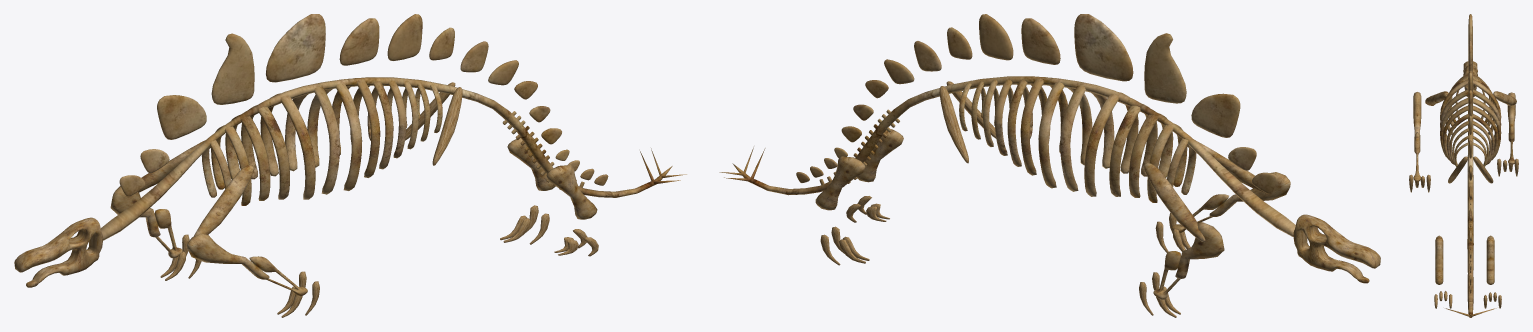
File: STEGOSAURUSbones.fbx
The picture shows the model from 3 angles, left to right: view 1: azimuth 30°, elevation 25°; view 2: azimuth 150°, elevation 25°; view 3: azimuth 270°, elevation 25°; orthographic projection. The views are drawn at different scales.
Parts seen in each view (by area): view 1: Spine, Ribs, Head, Left Forearm, Right Forearm, Left Arm, Left Foot, Left Leg, Right Foot, Right Toes, Right Arm, Right Fingers.001 (+2 smaller); view 2: Spine, Ribs, Head, Right Forearm, Right Arm, Left Forearm, Right Foot, Left Foot, Right Leg, Right Toes, Left Arm, Right Fingers.002 (+2 smaller); view 3: Ribs, Spine, Left Forearm, Right Foot, Left Foot, Right Forearm, Right Fingers.002, Right Arm, Right Fingers.001, Left Arm, Right Leg, Left Leg (+3 smaller).
Part boxes in pixels (x1=…): Spine: x1=100, y1=14, x2=686, y2=240; Ribs: x1=201, y1=78, x2=442, y2=205; Head: x1=14, y1=217, x2=102, y2=287; Left Forearm: x1=187, y1=234, x2=307, y2=295; Right Forearm: x1=110, y1=186, x2=182, y2=258; Left Arm: x1=193, y1=165, x2=254, y2=236; Left Foot: x1=546, y1=164, x2=597, y2=219; Left Leg: x1=432, y1=87, x2=462, y2=165; Right Foot: x1=507, y1=137, x2=554, y2=190; Right Toes: x1=500, y1=205, x2=549, y2=244; Right Arm: x1=138, y1=140, x2=210, y2=192; Right Fingers.001: x1=277, y1=271, x2=319, y2=317; Spine: x1=719, y1=14, x2=1295, y2=236; Ribs: x1=959, y1=77, x2=1196, y2=202; Head: x1=1293, y1=214, x2=1380, y2=283; Right Forearm: x1=1153, y1=222, x2=1224, y2=299; Right Arm: x1=1144, y1=163, x2=1205, y2=242; Left Forearm: x1=1171, y1=172, x2=1290, y2=232; Right Foot: x1=815, y1=156, x2=865, y2=210; Left Foot: x1=857, y1=129, x2=903, y2=182; Right Leg: x1=939, y1=86, x2=968, y2=163; Right Toes: x1=820, y1=226, x2=869, y2=265; Left Arm: x1=1187, y1=140, x2=1271, y2=194; Right Fingers.002: x1=1139, y1=272, x2=1180, y2=317; Ribs: x1=1440, y1=73, x2=1501, y2=166; Spine: x1=1445, y1=14, x2=1496, y2=317; Left Forearm: x1=1413, y1=92, x2=1421, y2=181; Right Foot: x1=1486, y1=235, x2=1494, y2=284; Left Foot: x1=1435, y1=235, x2=1443, y2=284; Right Forearm: x1=1507, y1=92, x2=1515, y2=164; Right Fingers.002: x1=1497, y1=158, x2=1518, y2=176; Right Arm: x1=1493, y1=91, x2=1516, y2=105; Right Fingers.001: x1=1409, y1=174, x2=1430, y2=192; Left Arm: x1=1425, y1=91, x2=1448, y2=105; Right Leg: x1=1473, y1=156, x2=1493, y2=183; Left Leg: x1=1448, y1=156, x2=1467, y2=183.
Size of the model in its own units: 12493 by 5375 by 2756.
